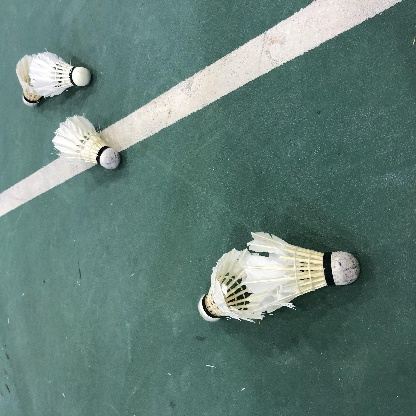ball_single: (244, 232, 360, 314), (198, 248, 270, 321), (51, 116, 120, 169), (29, 52, 91, 97), (16, 54, 49, 107)
